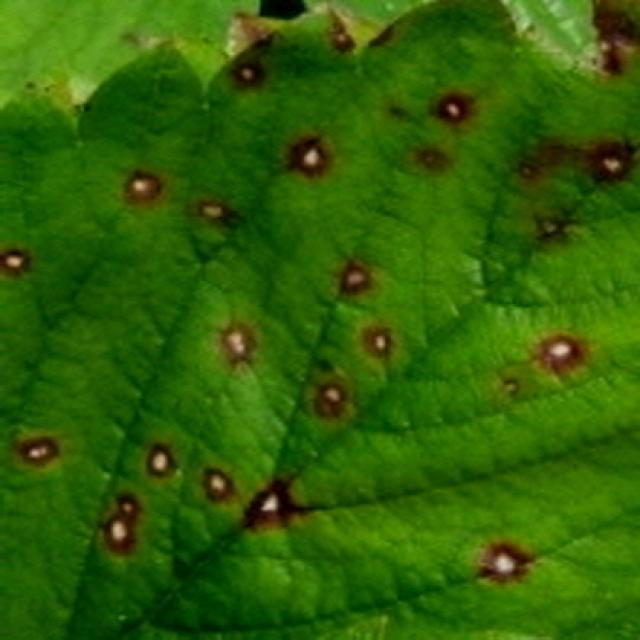Leaf Spot: (0, 0, 638, 638)
